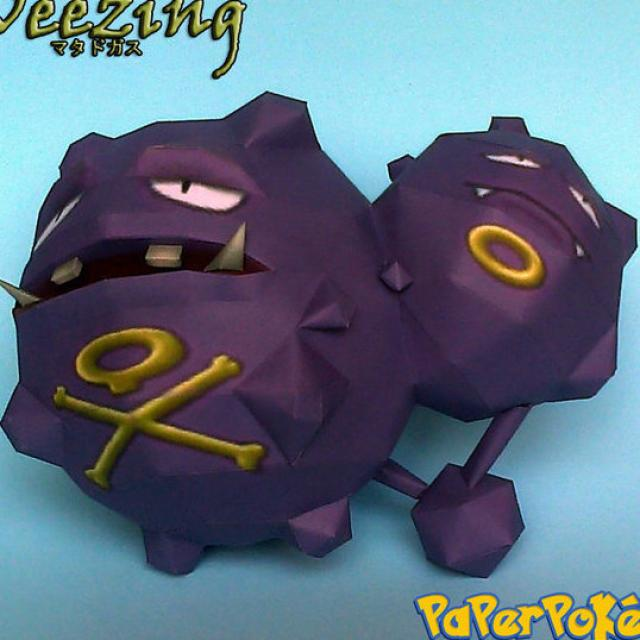Weezing: (0, 98, 616, 595)
